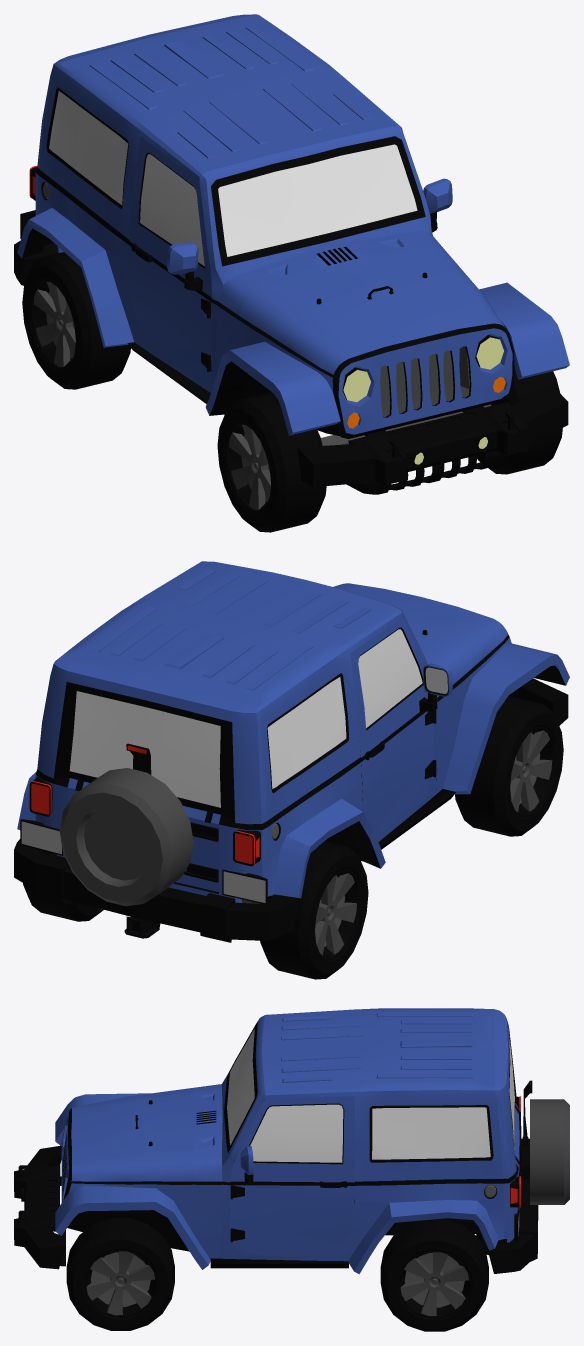
Rendered from Closed Jeep.fbx.
3 renders of one model, top to bottom at view 1: azimuth 30°, elevation 25°; view 2: azimuth 150°, elevation 25°; view 3: azimuth 270°, elevation 25°, orthographic. The views are drawn at different scales.
Visible parts, largest first — view 1: Closed Jeep_LOD0, BACK LEFT WHEEL.002, BACK LEFT WHEEL.001, BACK LEFT WHEEL.004; view 2: Closed Jeep_LOD0, BACK LEFT WHEEL.002, BACK LEFT WHEEL.001, BACK LEFT WHEEL.003; view 3: Closed Jeep_LOD0, BACK LEFT WHEEL.003, BACK LEFT WHEEL.004.
Part boxes in pixels (x1=…): Closed Jeep_LOD0: x1=14, y1=14, x2=569, y2=494; BACK LEFT WHEEL.002: x1=217, y1=392, x2=326, y2=532; BACK LEFT WHEEL.001: x1=22, y1=252, x2=130, y2=389; BACK LEFT WHEEL.004: x1=477, y1=368, x2=562, y2=474; Closed Jeep_LOD0: x1=14, y1=561, x2=569, y2=942; BACK LEFT WHEEL.002: x1=455, y1=695, x2=563, y2=836; BACK LEFT WHEEL.001: x1=260, y1=841, x2=368, y2=979; BACK LEFT WHEEL.003: x1=23, y1=850, x2=103, y2=921; Closed Jeep_LOD0: x1=14, y1=1008, x2=569, y2=1274; BACK LEFT WHEEL.003: x1=380, y1=1218, x2=488, y2=1331; BACK LEFT WHEEL.004: x1=66, y1=1218, x2=174, y2=1330.
Size of what is drawn, in the model's own units: 2.13 by 2.08 by 4.45.
3 materials, 1 textured.
